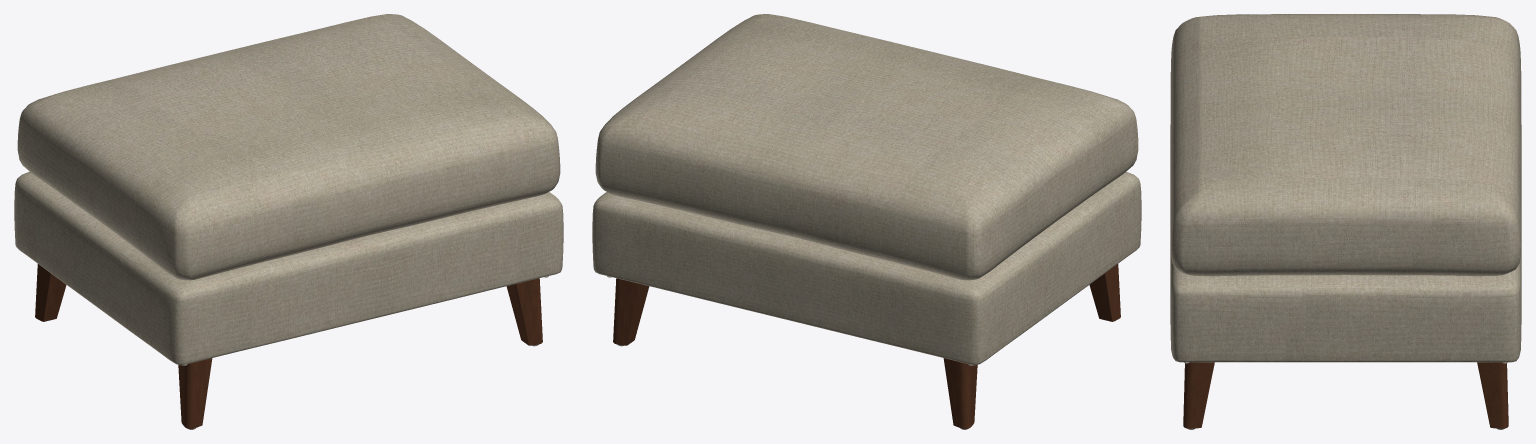
Rendered from B07124WMZZ.glb.
The picture shows the model from 3 angles, left to right: view 1: azimuth 30°, elevation 25°; view 2: azimuth 150°, elevation 25°; view 3: azimuth 270°, elevation 25°; orthographic projection. The views are drawn at different scales.
Visible parts, largest first — view 1: RootNode; view 2: RootNode; view 3: RootNode.
Boxes of the visible parts, left/top/right/bottom form: RootNode: left=14, top=14, right=563, bottom=429; RootNode: left=592, top=14, right=1141, bottom=429; RootNode: left=1170, top=14, right=1521, bottom=429.
Size of the model in its own units: 0.8232 by 0.4781 by 0.6104.
1 material, 1 textured.
